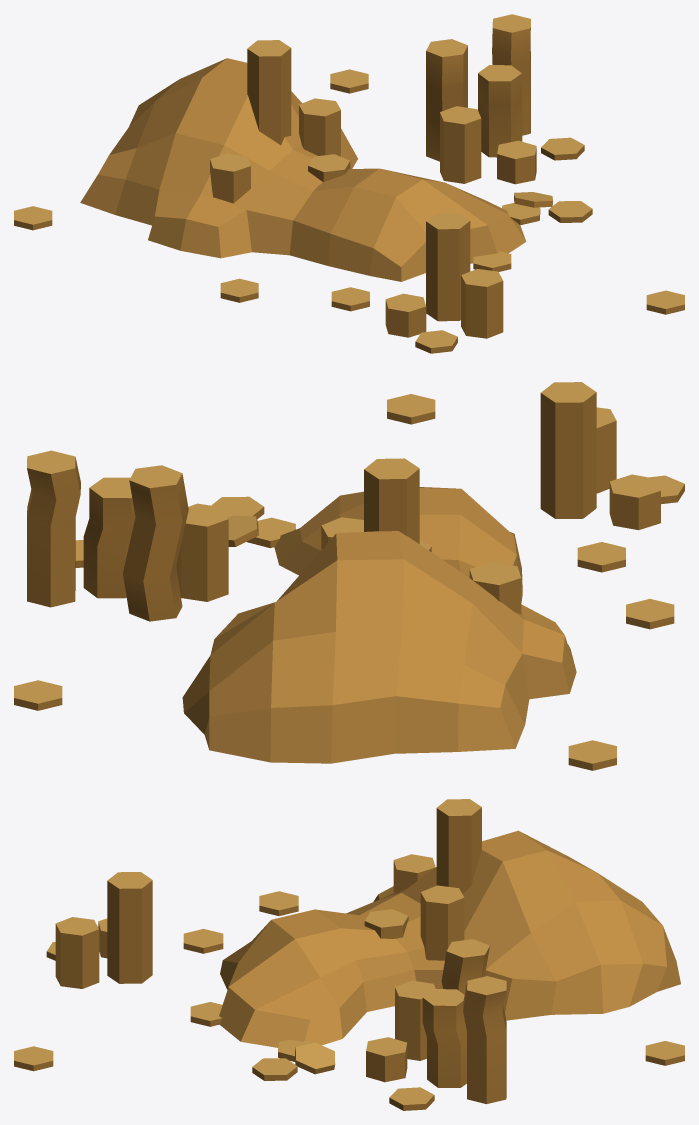
File: SD_Prop_CoinPile_01.fbx
3 renders of one model, top to bottom at view 1: azimuth 30°, elevation 25°; view 2: azimuth 150°, elevation 25°; view 3: azimuth 270°, elevation 25°, orthographic. The views are drawn at different scales.
Parts seen in each view (by area): view 1: SD_Prop_CoinPile_01; view 2: SD_Prop_CoinPile_01; view 3: SD_Prop_CoinPile_01.
Boxes of the visible parts, x1,y1,x2,y2 form: SD_Prop_CoinPile_01: (14,14,684,353); SD_Prop_CoinPile_01: (14,382,684,770); SD_Prop_CoinPile_01: (14,799,684,1110).
Size of the model in its own units: 2.38 by 0.6979 by 2.65.
